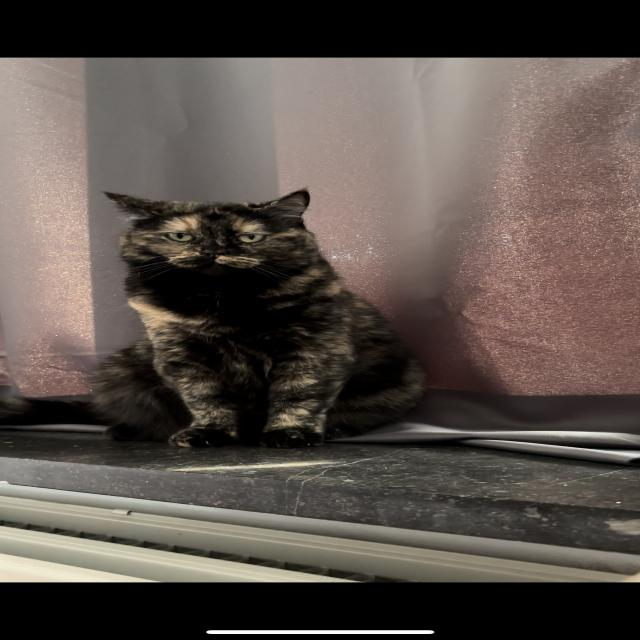authorized: (86, 185, 428, 449)
